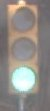Green: (3, 4, 49, 102)
